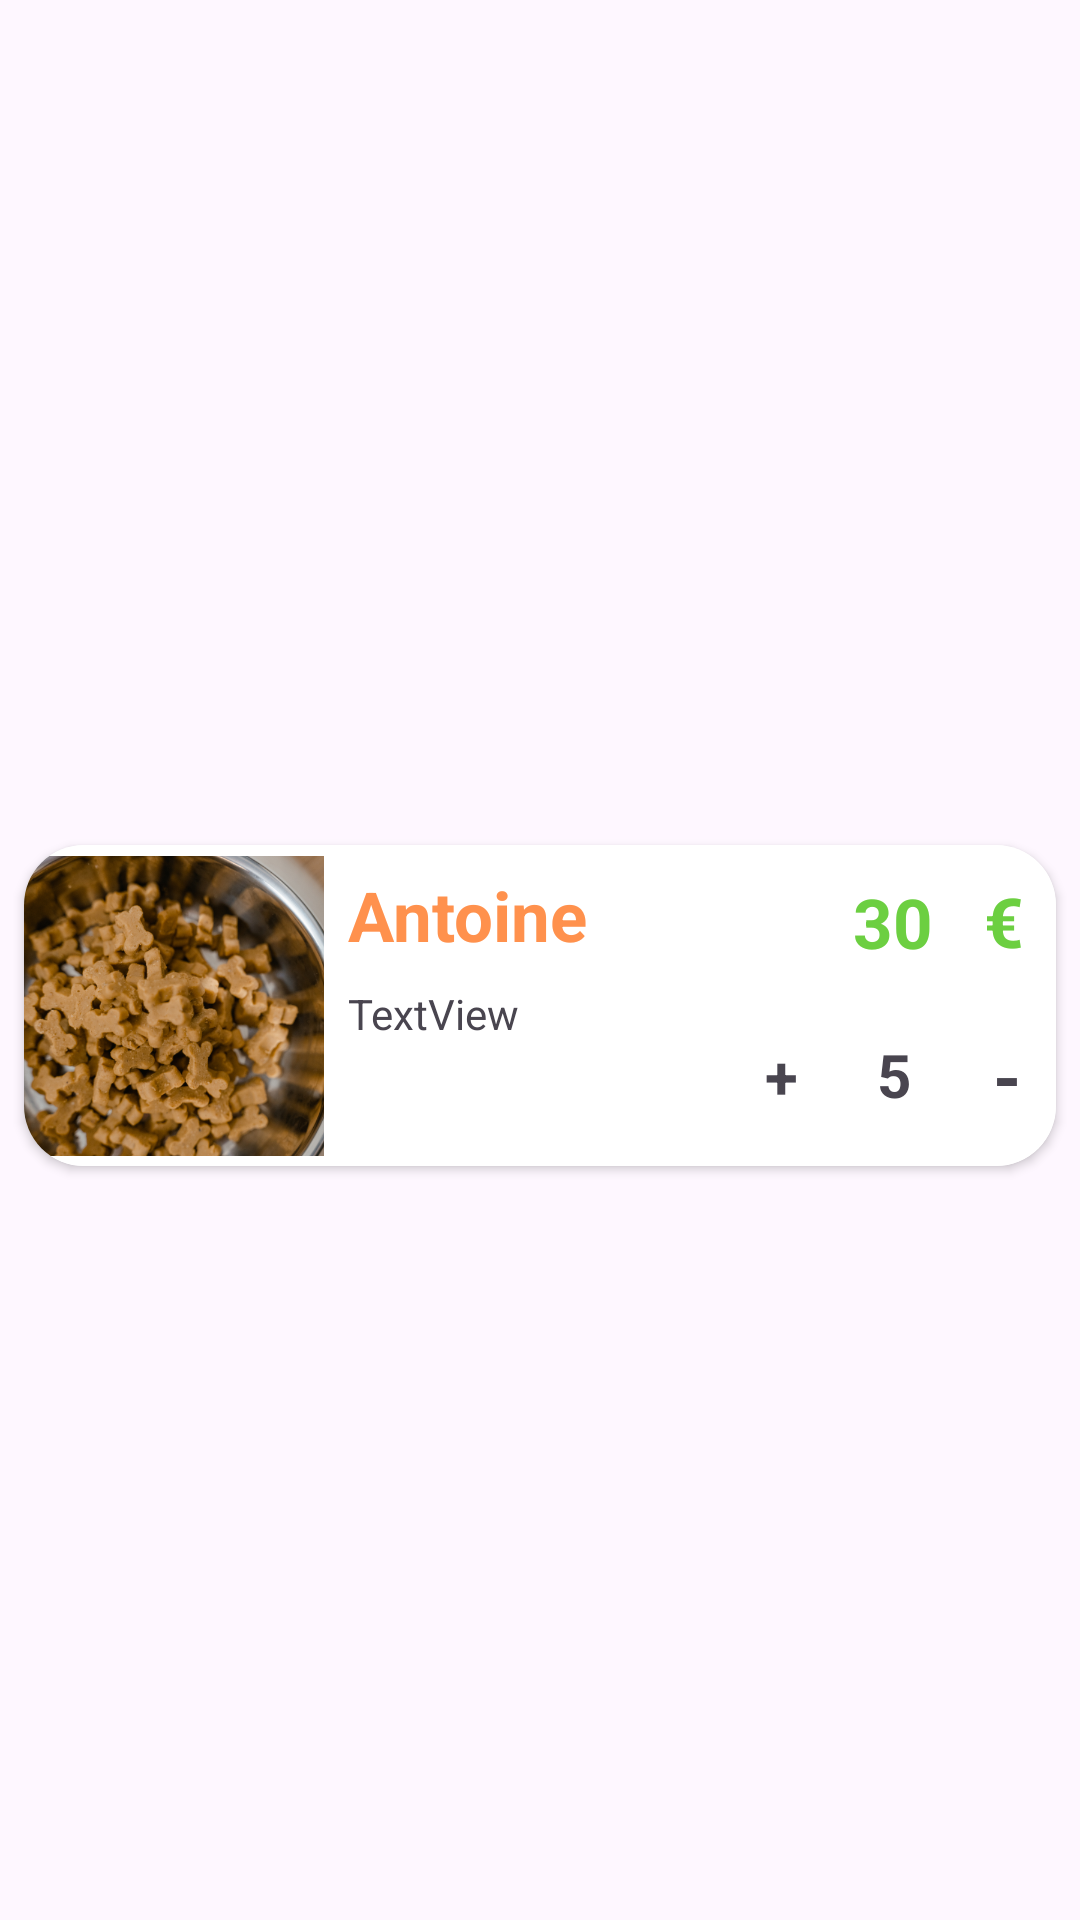

Locate icon controls on the screen. Image size 1080px x 1920px, boxes as [x1, y1, x2, y2].
croquette: [24, 856, 324, 1156]
